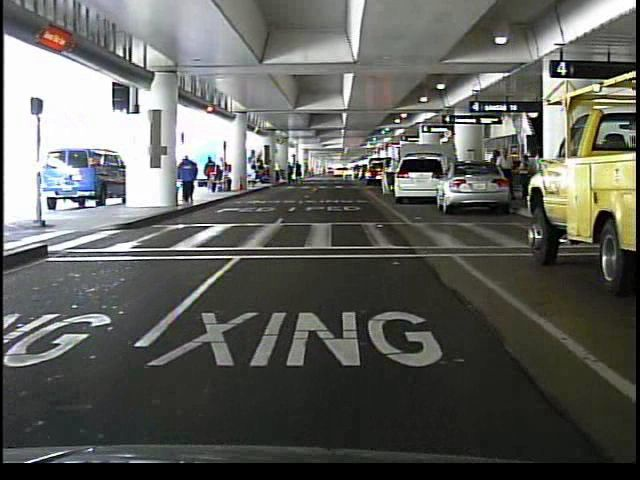person: (176, 152, 201, 206)
